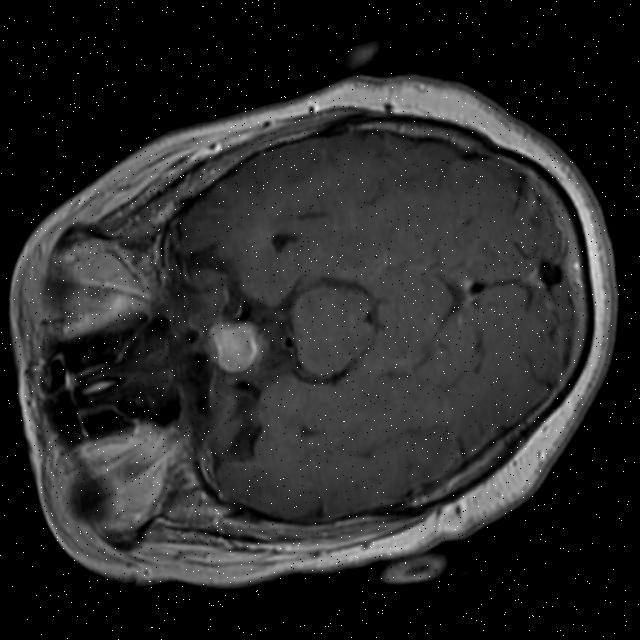Pituitary: (200, 310, 267, 378)
